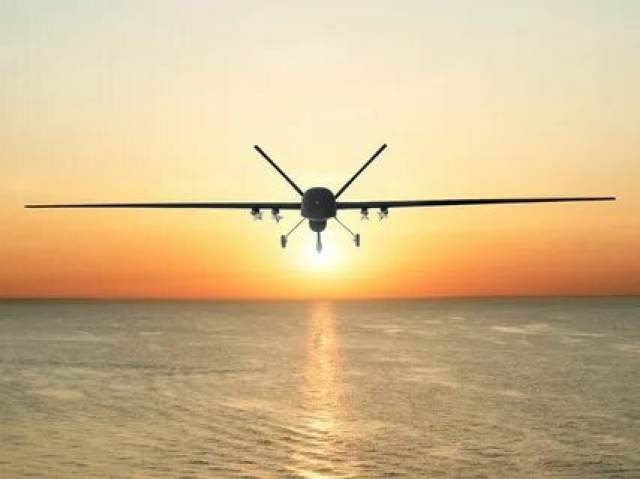military drone: (23, 143, 616, 253)
